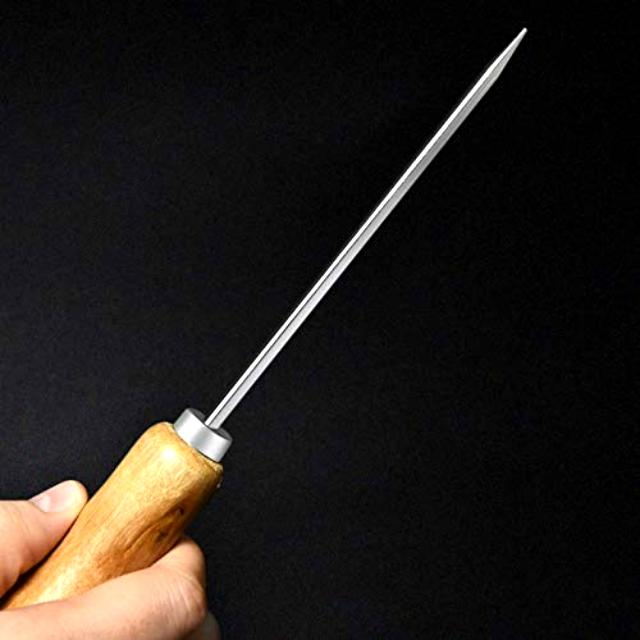ice pick: (2, 26, 526, 640)
